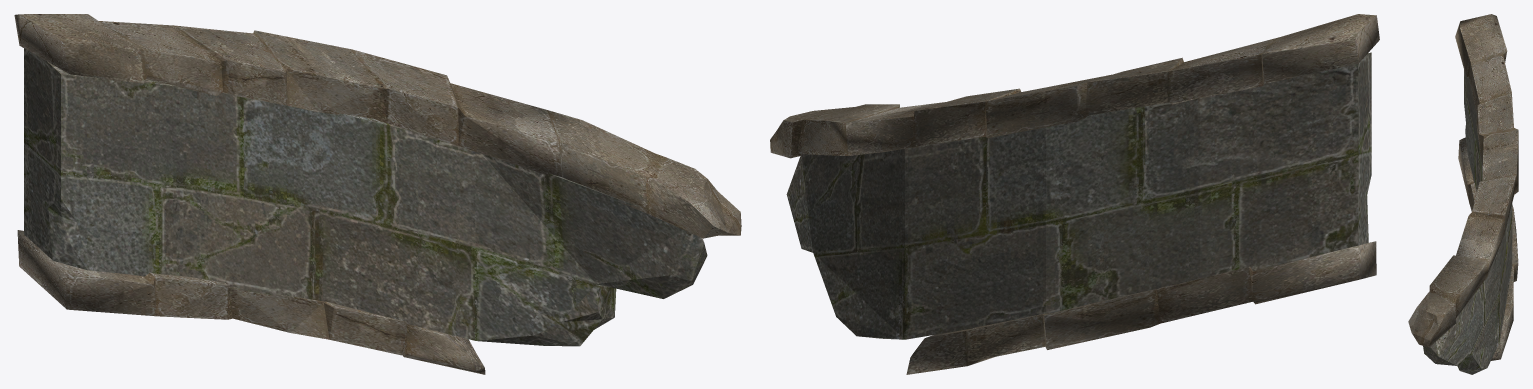
Rendered from bg_lut_lutomb_structure03_sm_old.FBX.
3 renders of one model, left to right at view 1: azimuth 30°, elevation 25°; view 2: azimuth 150°, elevation 25°; view 3: azimuth 270°, elevation 25°, orthographic. The views are drawn at different scales.
Parts seen in each view (by area): view 1: bg_lut_lutomb_structure03_sm_old; view 2: bg_lut_lutomb_structure03_sm_old; view 3: bg_lut_lutomb_structure03_sm_old.
Boxes of the visible parts, bbox=[...] form: bg_lut_lutomb_structure03_sm_old: bbox=[14, 14, 741, 374]; bg_lut_lutomb_structure03_sm_old: bbox=[770, 14, 1379, 374]; bg_lut_lutomb_structure03_sm_old: bbox=[1408, 14, 1518, 374].
Bounding box in the file's own units: 737 × 490 × 208.
